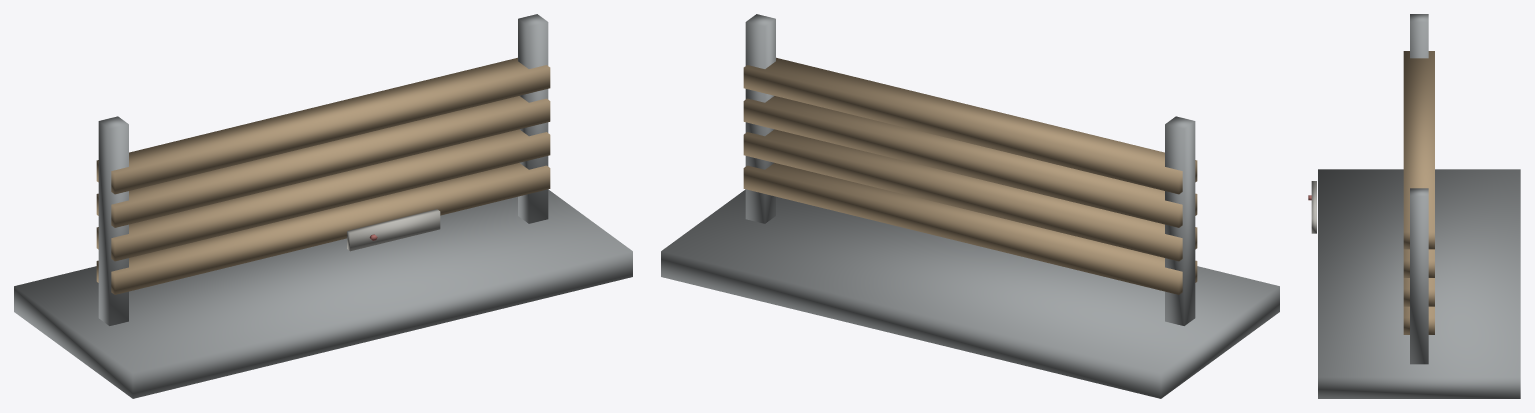
Rendered from lumber_cart__squat.glb.
The picture shows the model from 3 angles, left to right: view 1: azimuth 30°, elevation 25°; view 2: azimuth 150°, elevation 25°; view 3: azimuth 270°, elevation 25°; orthographic projection. The views are drawn at different scales.
Parts seen in each view (by area): view 1: world; view 2: world; view 3: world.
Part boxes in pixels (x1=…): world: x1=14, y1=14, x2=632, y2=398; world: x1=661, y1=14, x2=1279, y2=398; world: x1=1308, y1=14, x2=1520, y2=398.
Bounding box in the file's own units: 1.7 × 0.7266 × 0.7355.
